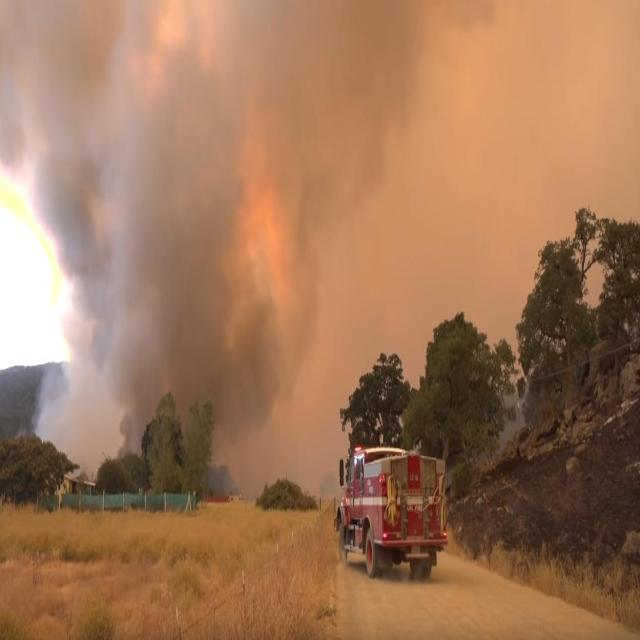Smoke: (0, 0, 373, 521), (365, 6, 640, 277)
